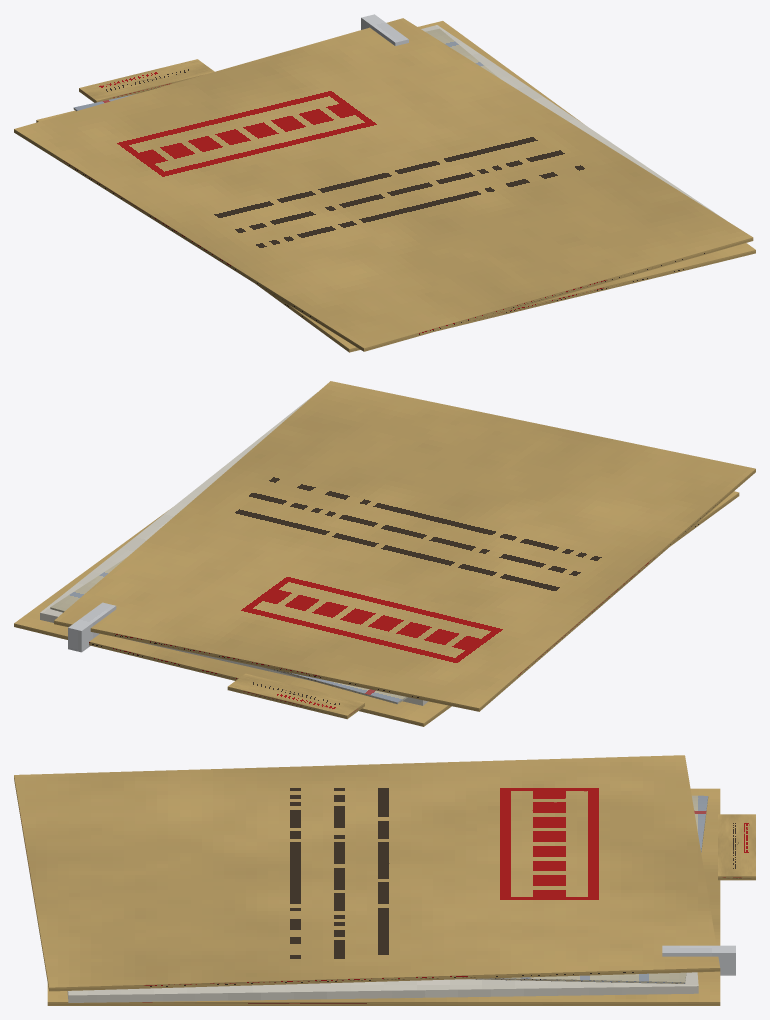
File: item_file.glb
3 renders of one model, top to bottom at view 1: azimuth 30°, elevation 25°; view 2: azimuth 150°, elevation 25°; view 3: azimuth 270°, elevation 25°, orthographic. The views are drawn at different scales.
Parts seen in each view (by area): view 1: file; view 2: file; view 3: file.
Boxes of the visible parts, box(x1,y1,x2,y2) form: file: box(14, 14, 755, 352); file: box(14, 381, 755, 726); file: box(14, 755, 755, 1005).
Bounding box in the file's own units: 0.264 × 0.012 × 0.353.
Materials: 4 (4 with a texture image).
